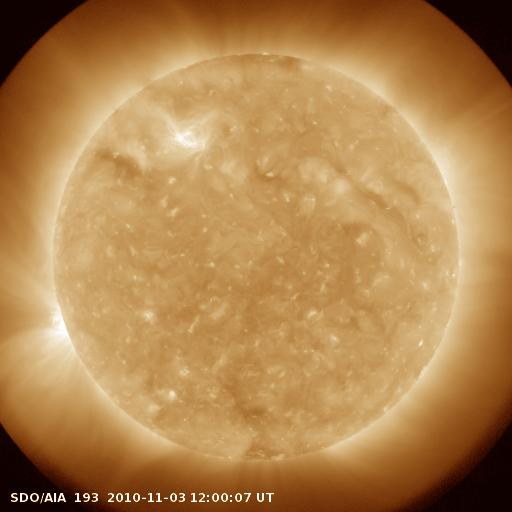coronal_hole: (91, 142, 148, 180)
